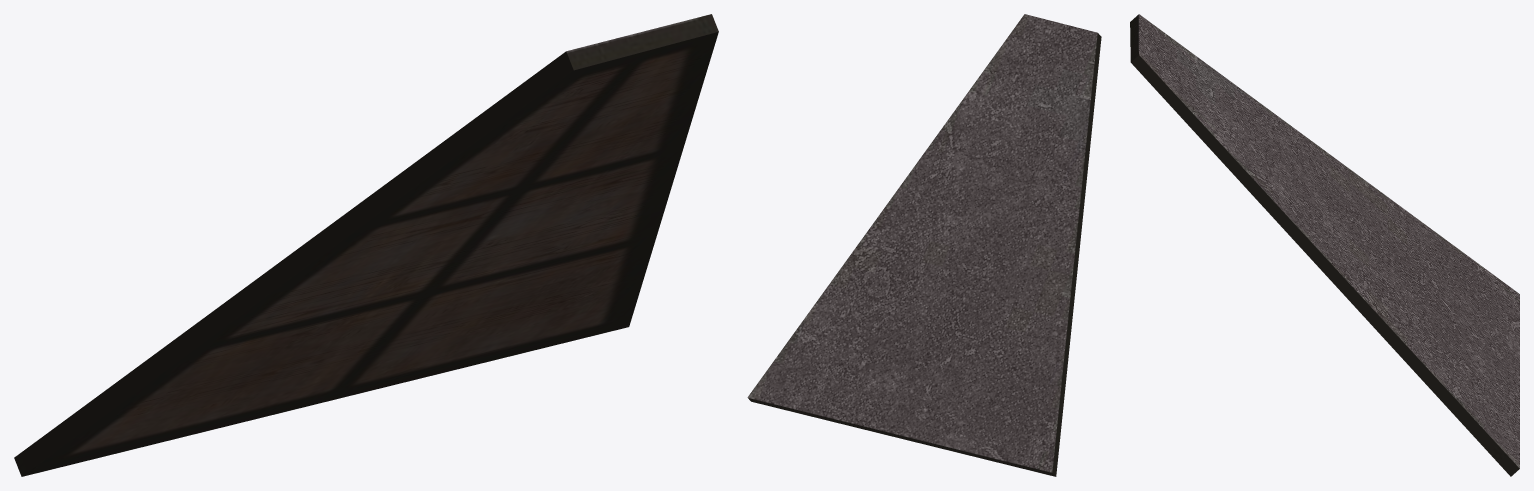
Rendered from stone_roof_triangle_textured.glb.
3 views of the same model, side by side, from view 1: azimuth 30°, elevation 25°; view 2: azimuth 150°, elevation 25°; view 3: azimuth 270°, elevation 25° (orthographic). The views are drawn at different scales.
Visible parts, largest first — view 1: Plane; view 2: Plane; view 3: Plane.
Boxes of the visible parts, x1,y1,x2,y2 form: Plane: (14,14,718,476); Plane: (747,14,1101,476); Plane: (1130,14,1519,476).
Bounding box in the file's own units: 2.23 × 2.11 × 2.09.
1 material, 1 textured.
